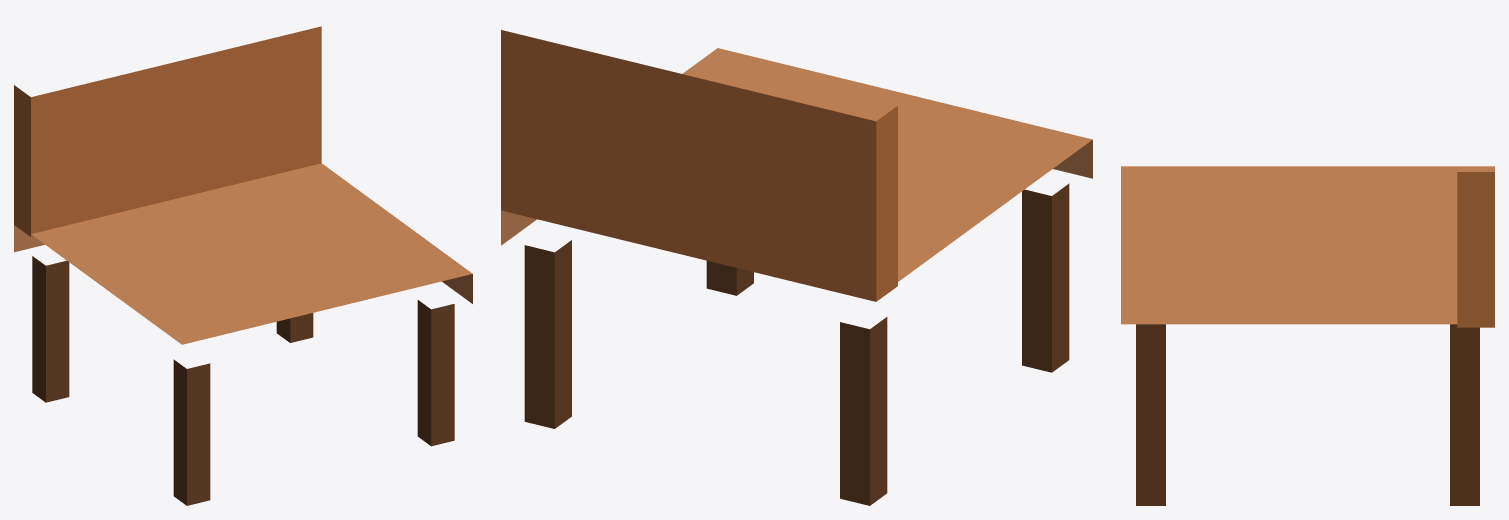
Rendered from Chair-orange.glb.
The picture shows the model from 3 angles, left to right: view 1: azimuth 30°, elevation 25°; view 2: azimuth 150°, elevation 25°; view 3: azimuth 270°, elevation 25°; orthographic projection. The views are drawn at different scales.
Visible parts, largest first — view 1: Chair; view 2: Chair; view 3: Chair.
Boxes of the visible parts, x1,y1,x2,y2 form: Chair: [14, 26, 472, 505]; Chair: [501, 30, 1092, 505]; Chair: [1121, 166, 1494, 505].
Bounding box in the file's own units: 1 × 1 × 1.
